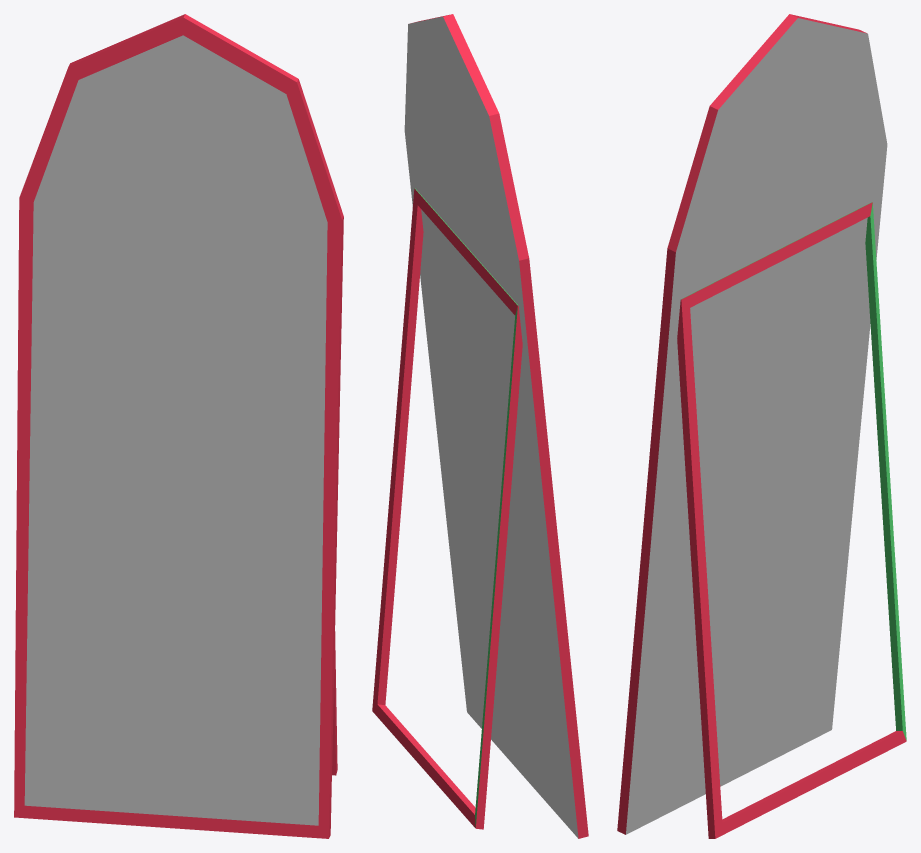
The model's file is p_ayna.obj.
3 renders of one model, left to right at view 1: azimuth 30°, elevation 25°; view 2: azimuth 150°, elevation 25°; view 3: azimuth 270°, elevation 25°, orthographic.
Parts seen in each view (by area): view 1: Circle.021_wall_pembe, Circle.021_m_çingenepembe; view 2: Circle.021_wall_pembe, Circle.021_m_çingenepembe, Circle.021_m_yeşil; view 3: Circle.021_wall_pembe, Circle.021_m_çingenepembe, Circle.021_m_yeşil.
Part boxes in pixels (<box>): Circle.021_wall_pembe: <box>24,35,327,825</box>; Circle.021_m_çingenepembe: <box>14,14,343,838</box>; Circle.021_wall_pembe: <box>404,16,578,838</box>; Circle.021_m_çingenepembe: <box>372,14,588,838</box>; Circle.021_m_yeşil: <box>414,188,517,827</box>; Circle.021_wall_pembe: <box>626,18,887,834</box>; Circle.021_m_çingenepembe: <box>617,14,906,838</box>; Circle.021_m_yeşil: <box>681,202,906,740</box>.
Bounding box in the file's own units: 8.85 × 24.28 × 8.08.
